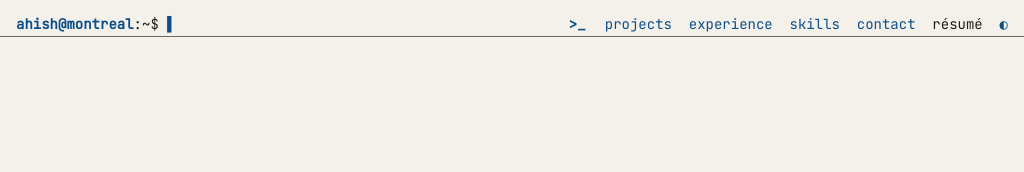
Test: SiteHeader › types the command on hover and clears it on leave
Hover over the link "experience" at (731, 24), box top-left (689, 15), bottom-right (773, 33)
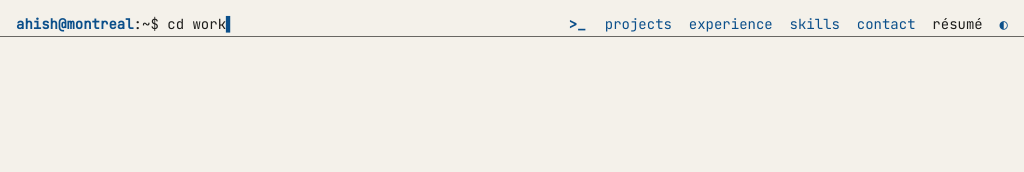
Expected: the text "cd work" is shown, top-left (167, 15), bottom-right (226, 33)
Move the pointer off the link "experience", box top-left (689, 15), bottom-right (773, 33)
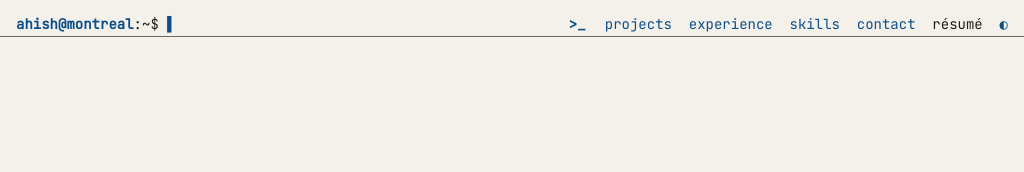
Expected: the text "cd work" is gone
